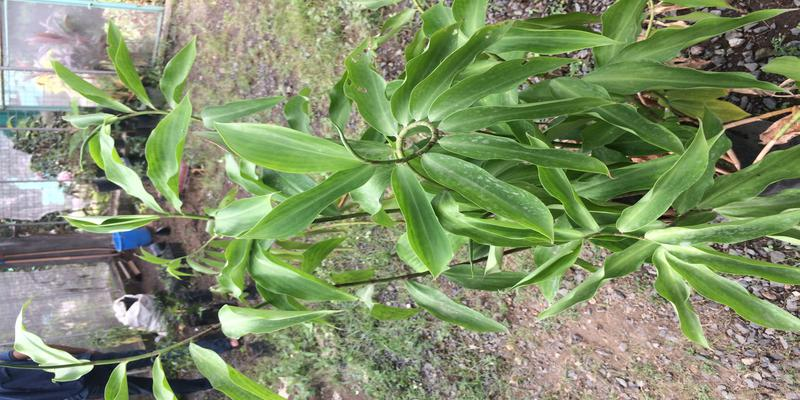Insulin: (88, 44, 772, 271)
